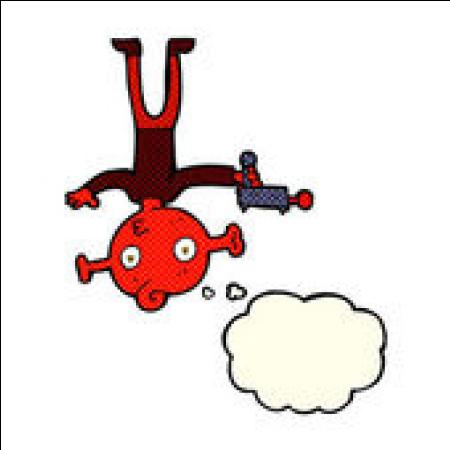Pistol: (233, 154, 294, 218)
